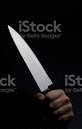knife: (7, 24, 73, 122)
